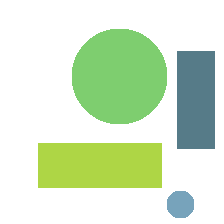circle: (72, 29, 166, 123), (167, 191, 193, 217)
rectangle: (38, 143, 161, 187), (177, 51, 214, 148)
